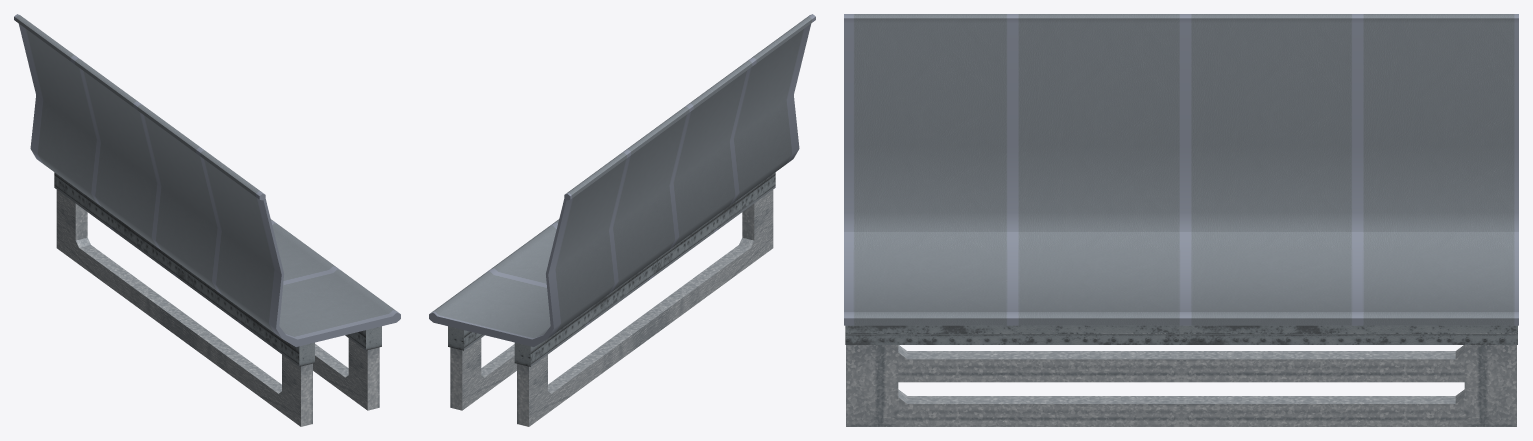
Rendered from Bench02a.FBX.
3 views of the same model, side by side, from view 1: azimuth 30°, elevation 25°; view 2: azimuth 150°, elevation 25°; view 3: azimuth 270°, elevation 25° (orthographic). The views are drawn at different scales.
Parts seen in each view (by area): view 1: Bench02a; view 2: Bench02a; view 3: Bench02a.
Boxes of the visible parts, box(x1,y1,x2,y2) form: Bench02a: box(14, 14, 400, 426); Bench02a: box(429, 14, 815, 426); Bench02a: box(844, 14, 1518, 426).
Bounding box in the file's own units: 808 × 1330 × 2435.
